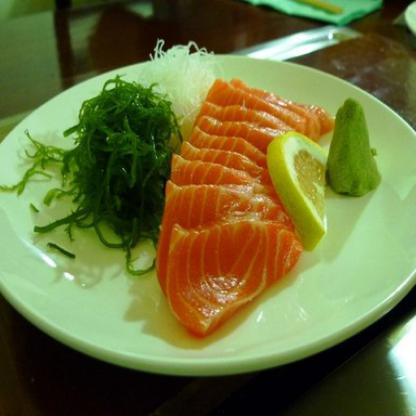salmon: (157, 77, 332, 330)
